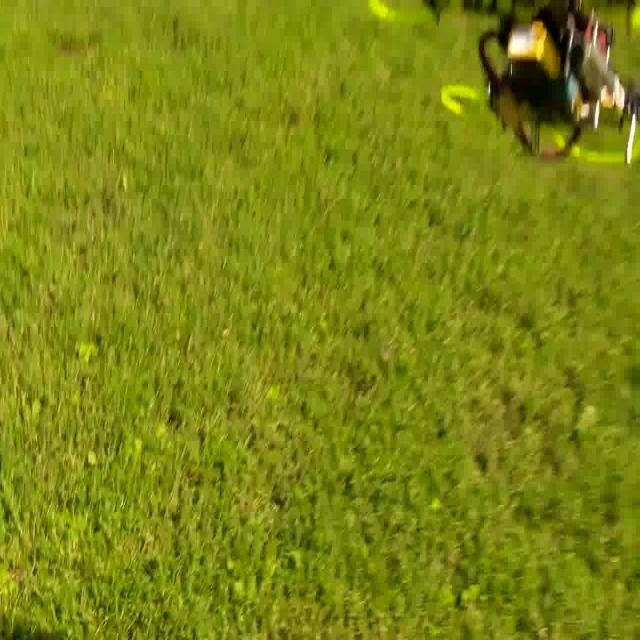drone: (374, 0, 636, 195)
